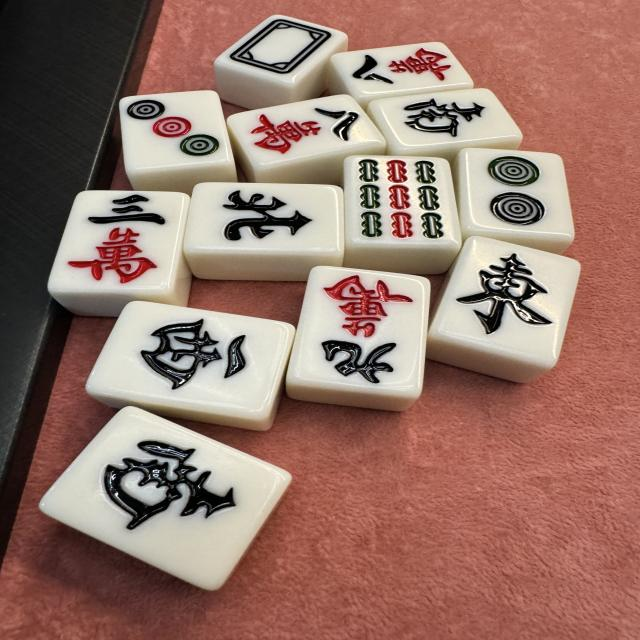hdw: (212, 14, 348, 86)
hwe: (430, 235, 580, 368)
hwn: (184, 182, 343, 256)
hws: (37, 406, 294, 590), (369, 88, 524, 151)
hww: (83, 298, 294, 422)
sb9: (344, 155, 461, 247)
sc3: (47, 189, 186, 291)
sc8: (229, 94, 386, 166), (332, 41, 474, 97)
sc9: (288, 264, 430, 396)
sd2: (458, 147, 576, 239)
sd3: (119, 90, 232, 172)
